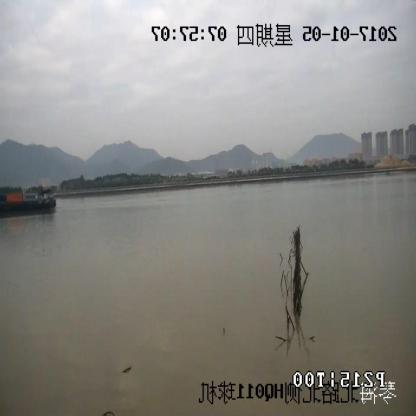Container Ship: (1, 190, 57, 215)
